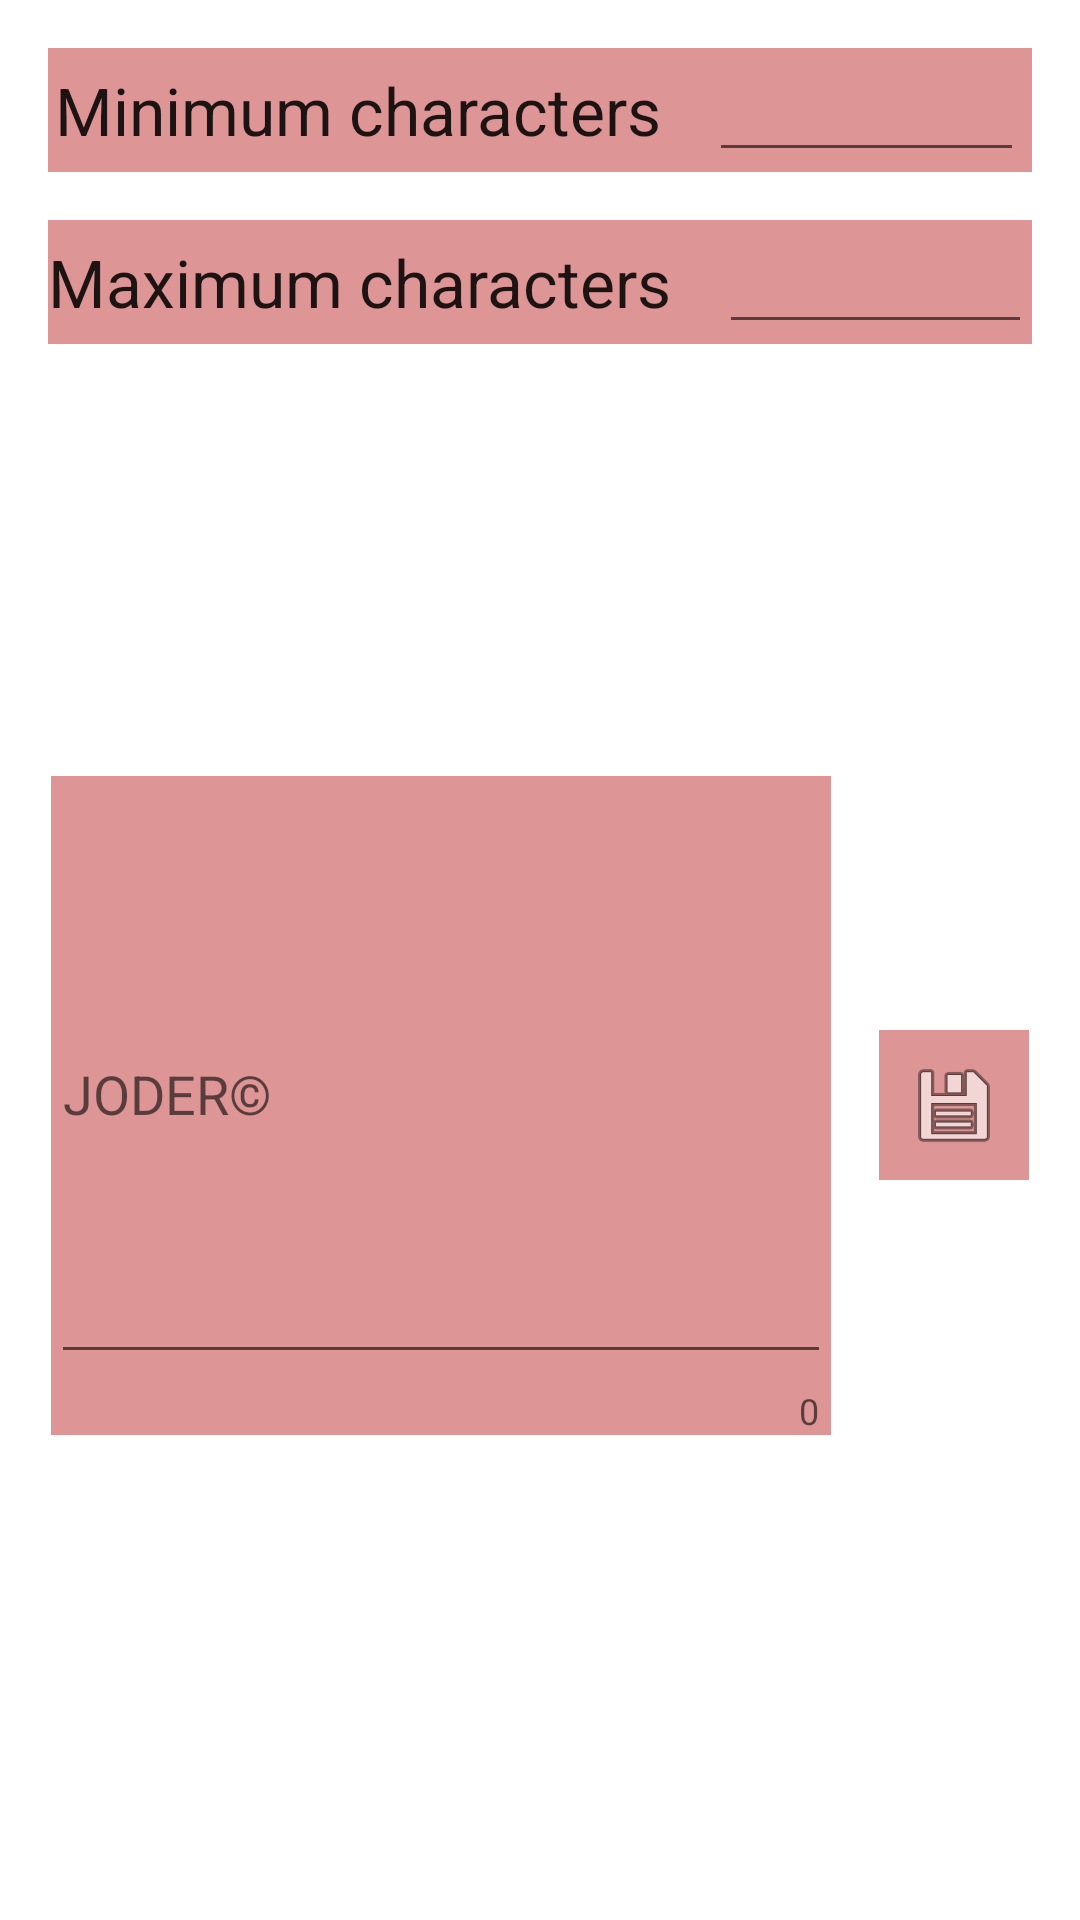

Point at icon controls on the screen. Image size 1080×1920, points as [x,y].
save: [954,1105]
